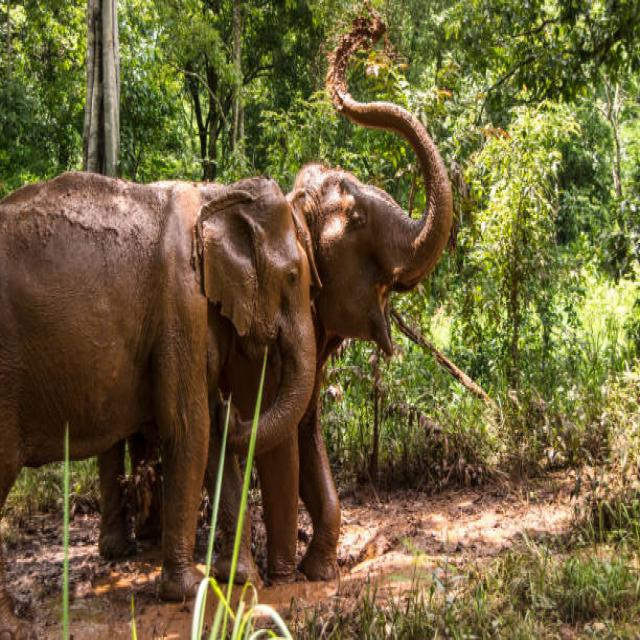Elephant: (0, 166, 309, 580), (301, 45, 468, 576)
